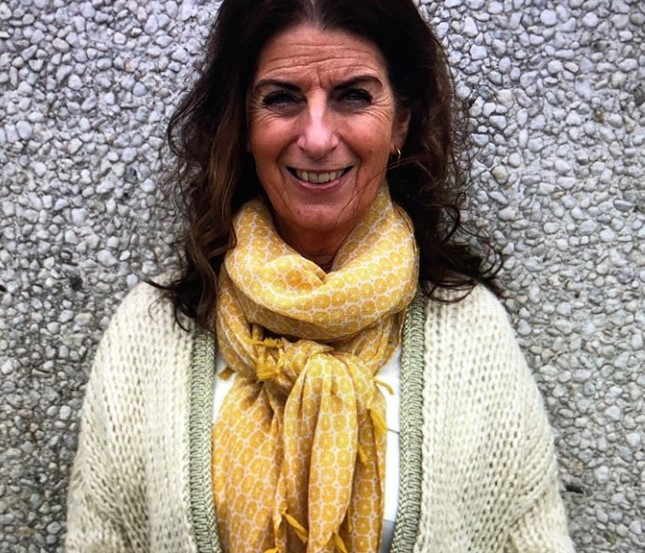face_no_mask: (223, 6, 420, 238)
